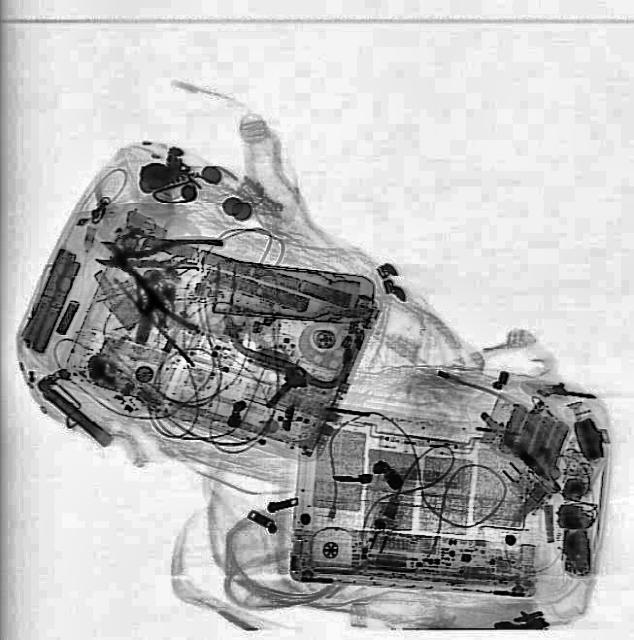Pliers: (78, 205, 232, 332)
